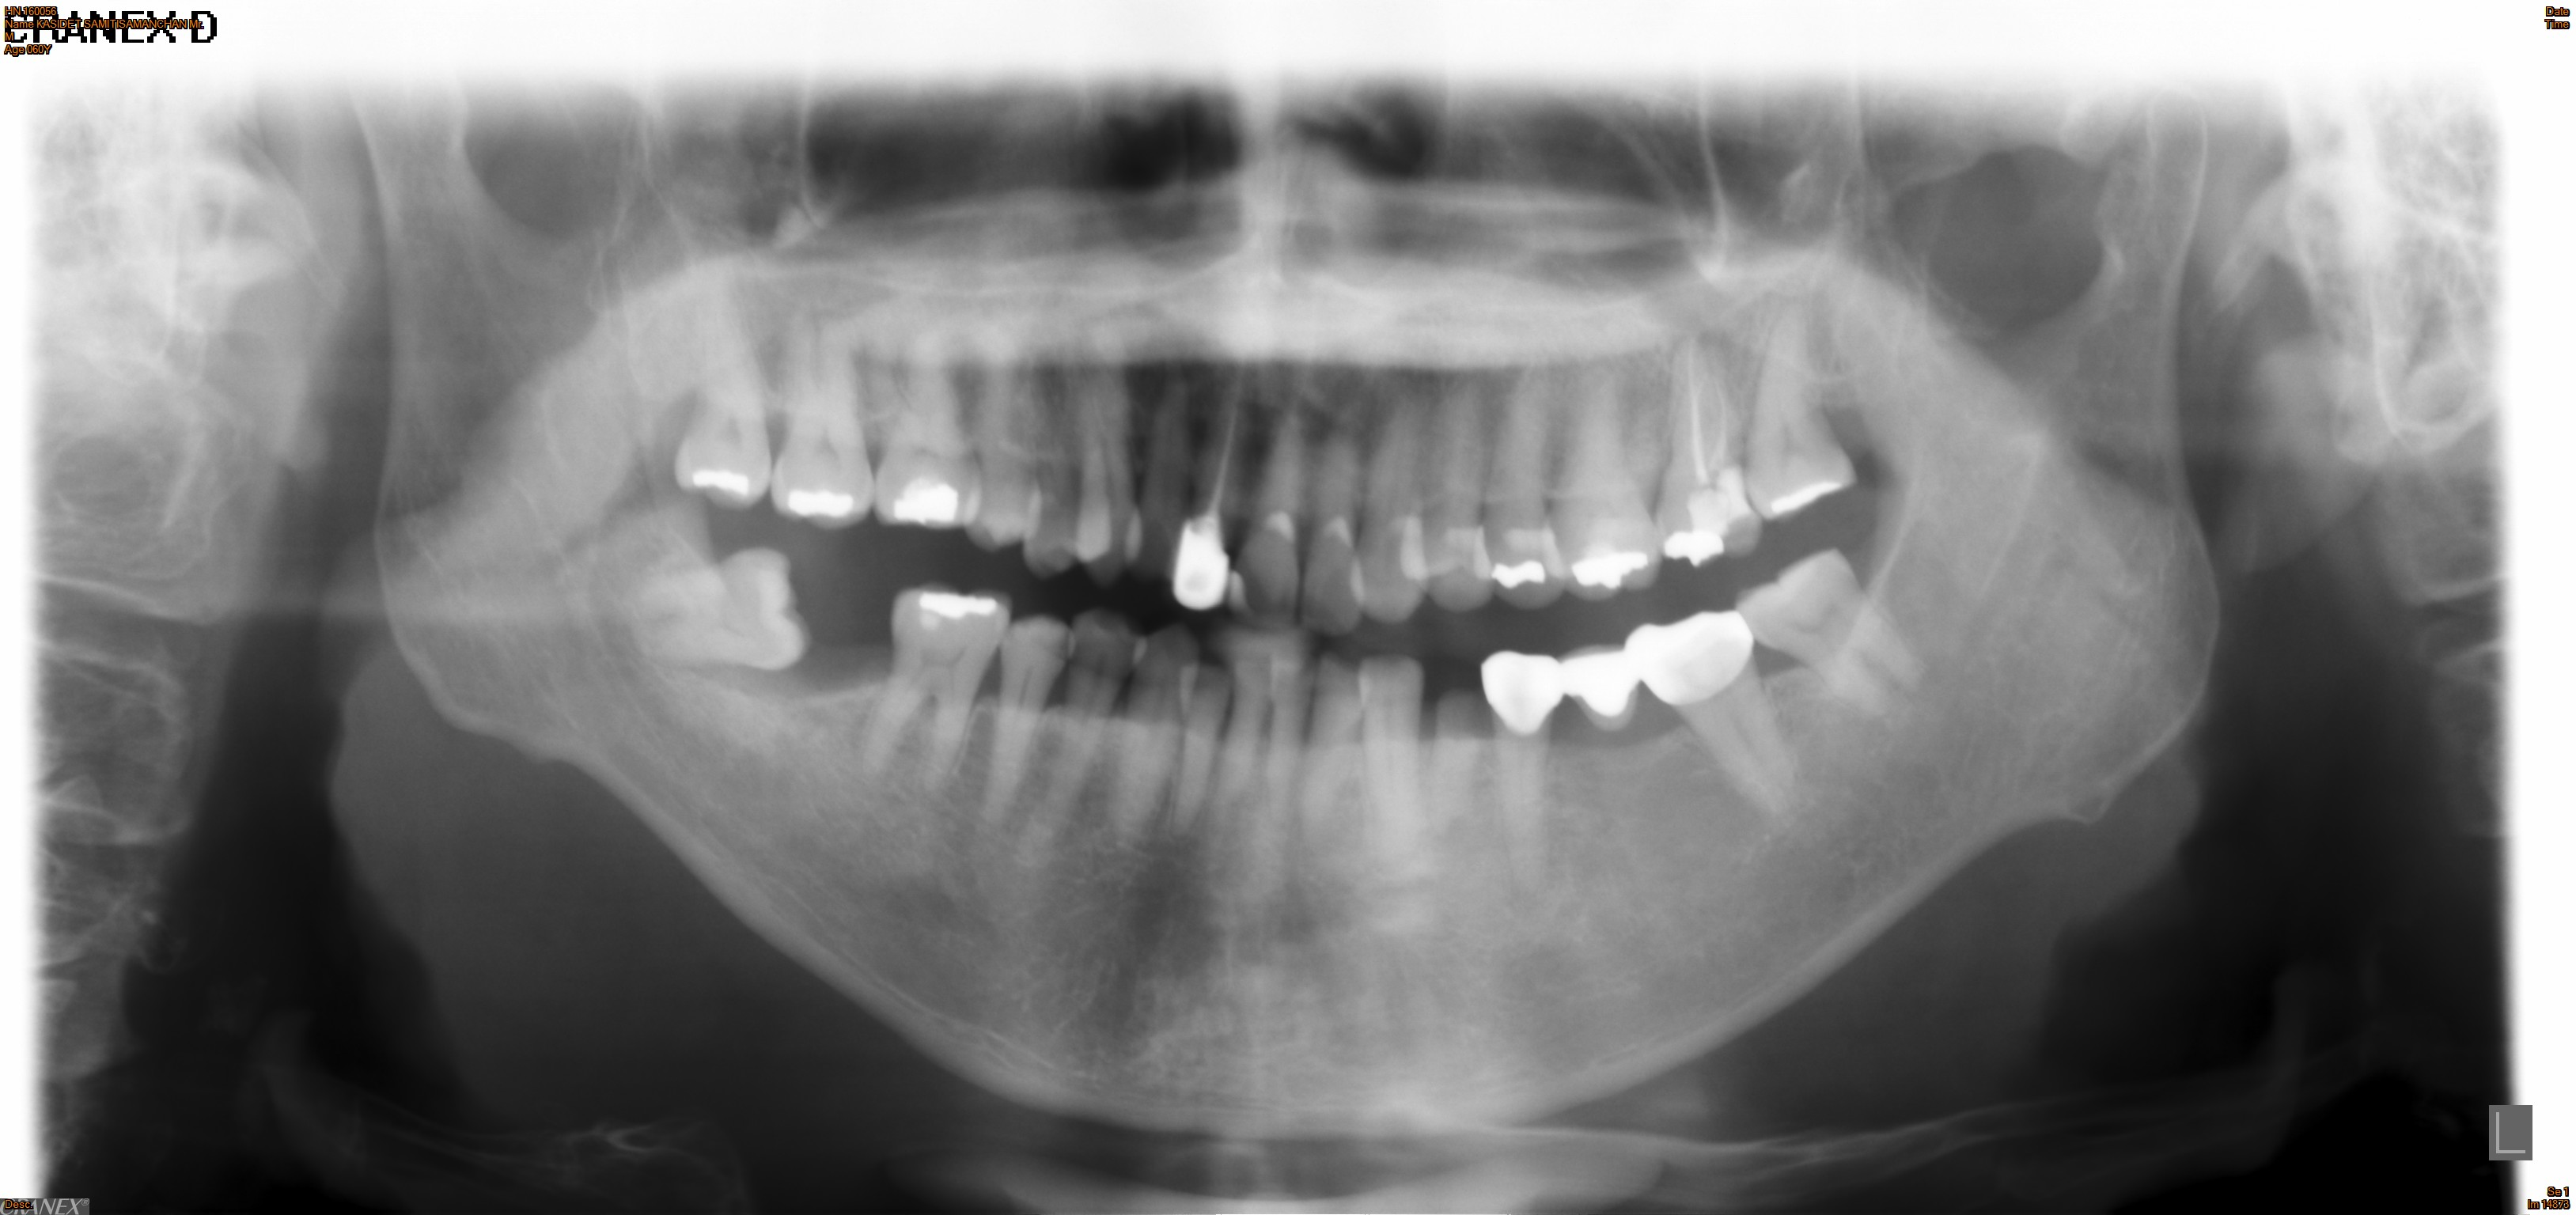periodontitis: (1620, 607, 1824, 839), (846, 586, 1022, 800)
